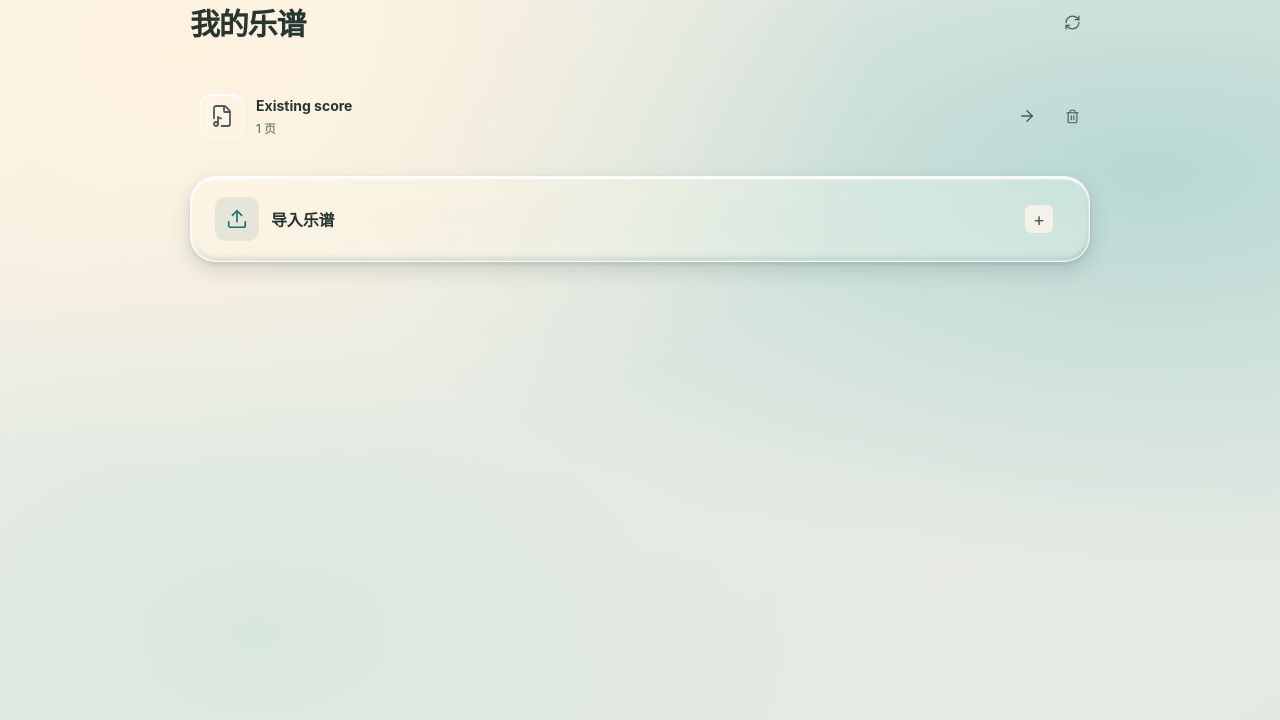
Test: ImportForm › does not restore a deleted work from a stale refresh
The image size is (1280, 720).
Click the button named "刷新状态".
click(1072, 22)  # box [1054,2,1090,42]
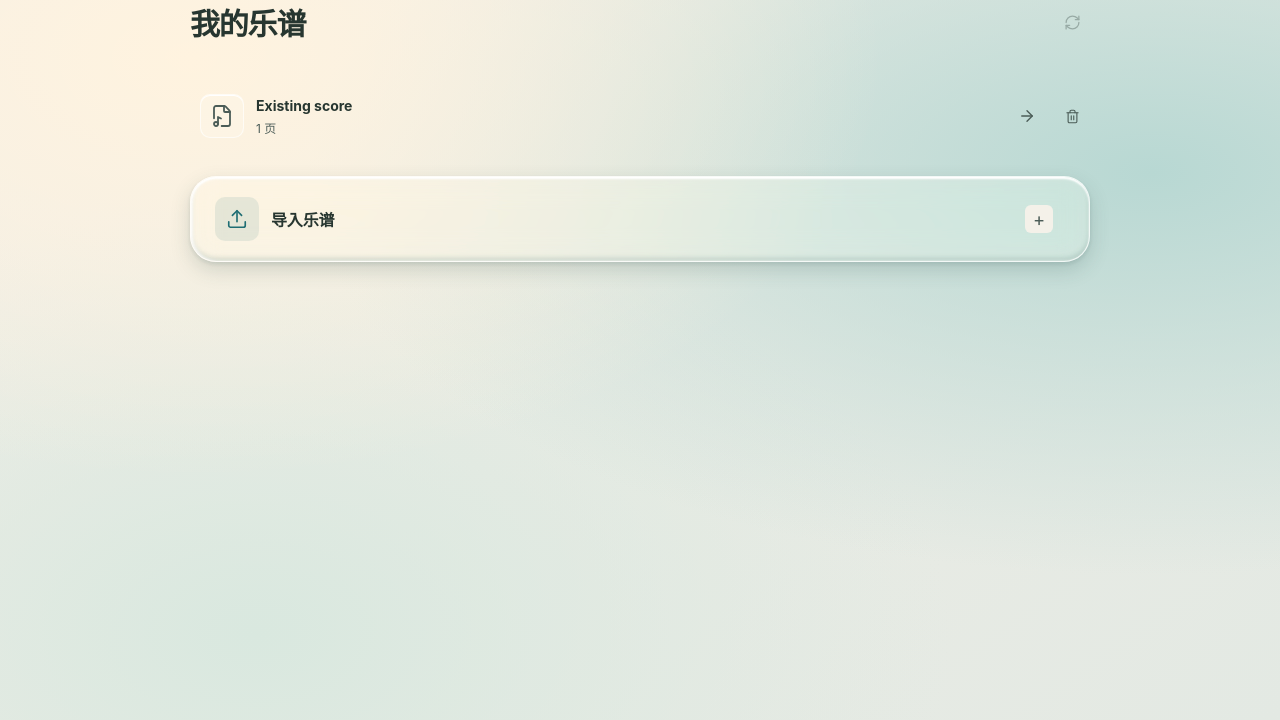
Click the button named "删除 Existing score".
click(1072, 116)  # box [1054,98,1090,134]
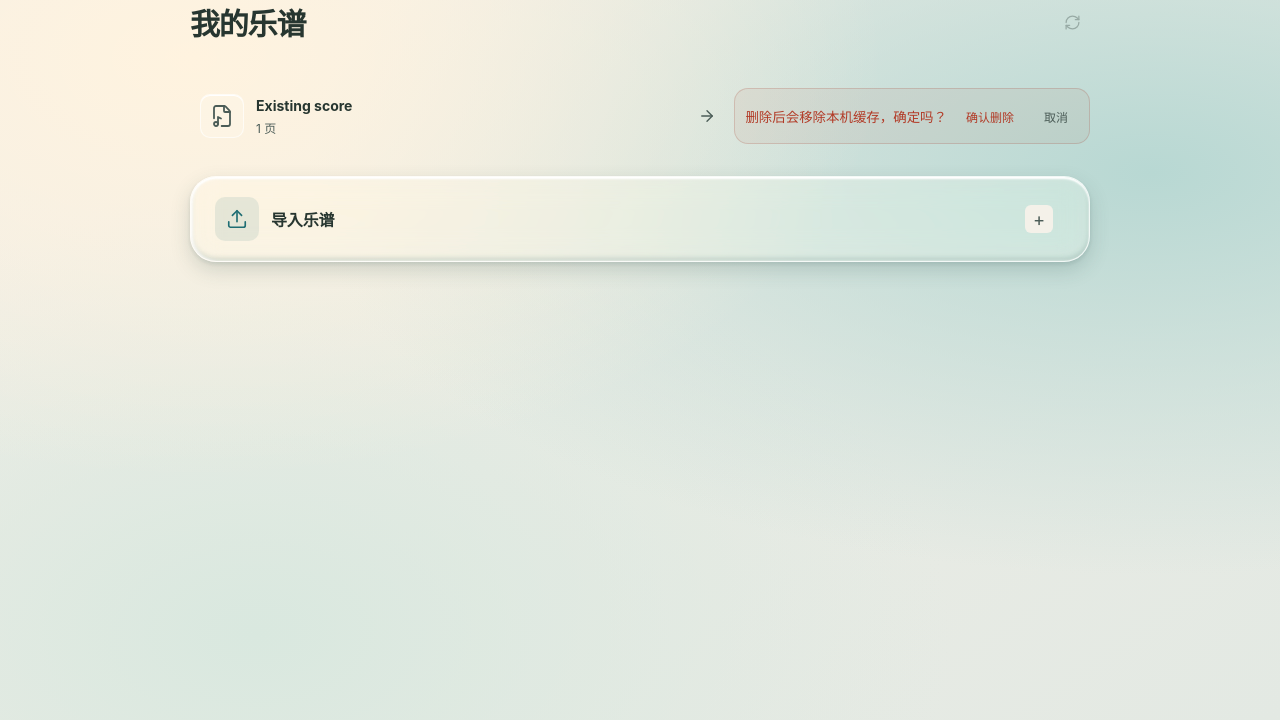
Click the button "确认删除".
click(990, 116)  # box [955,99,1025,133]
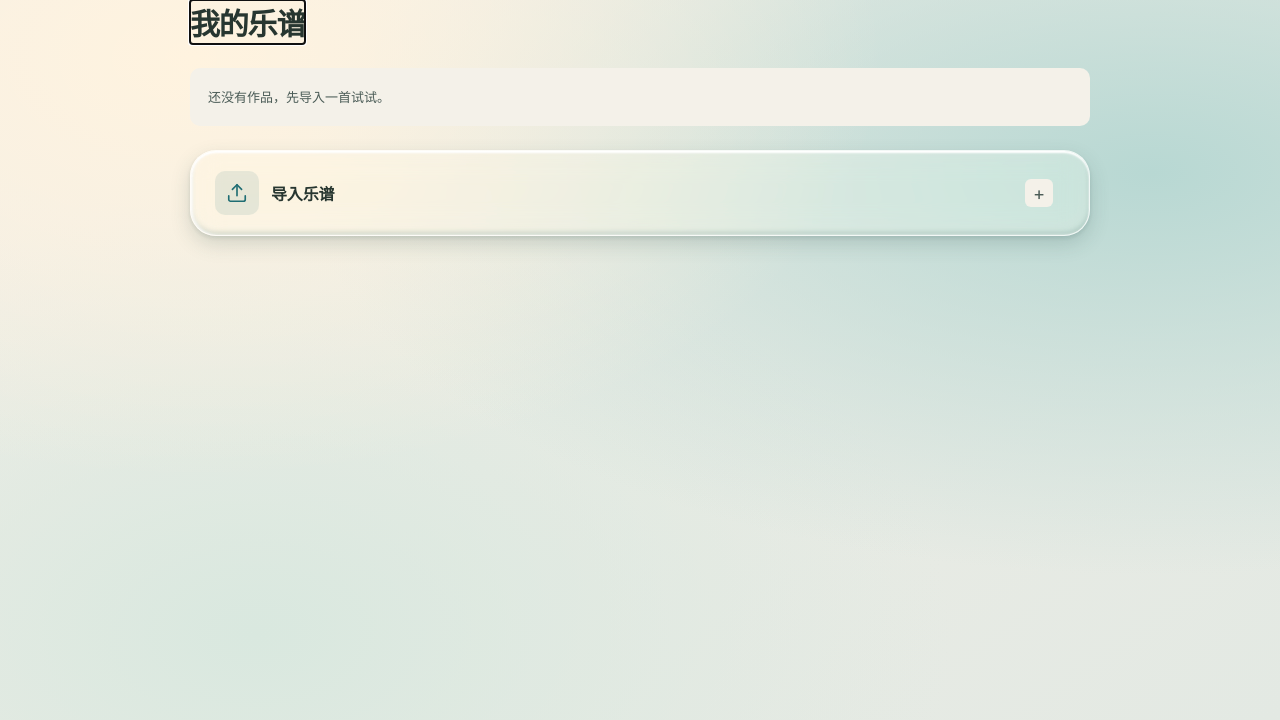
Result: the link "Existing score" is gone
